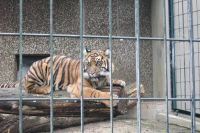Tigre: (33, 51, 121, 99)
